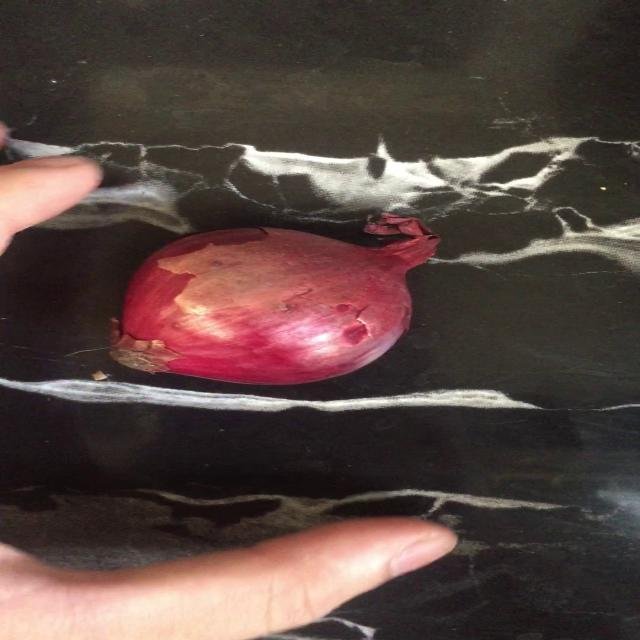Onion: (109, 213, 439, 384)
